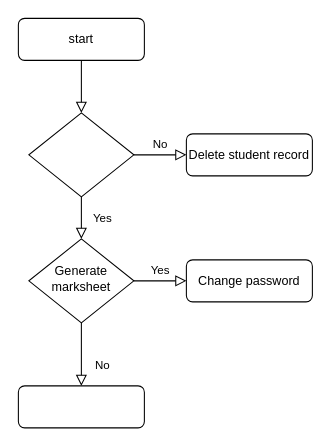
The diagram is 331 pixels wide and 446 high, and some of its shapes have lost their labels. Each missing label, with the centre of its shape:
Exit: point (80, 406)
Search student: point (81, 154)
